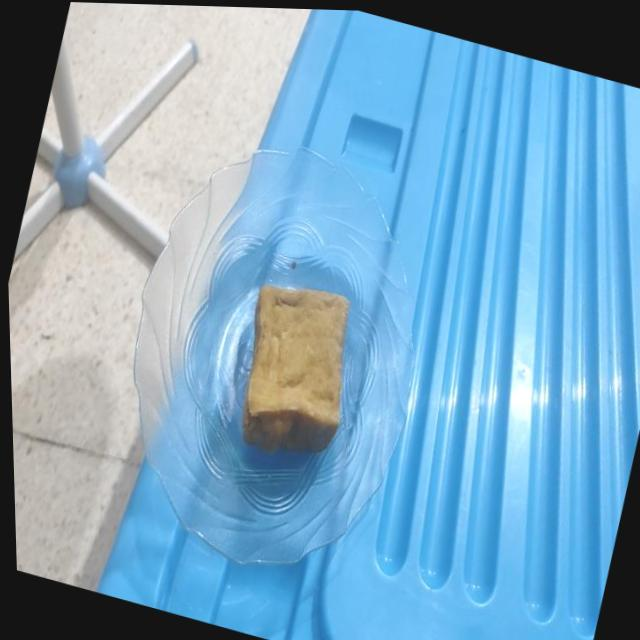tahu_goreng: (242, 285, 348, 452)
